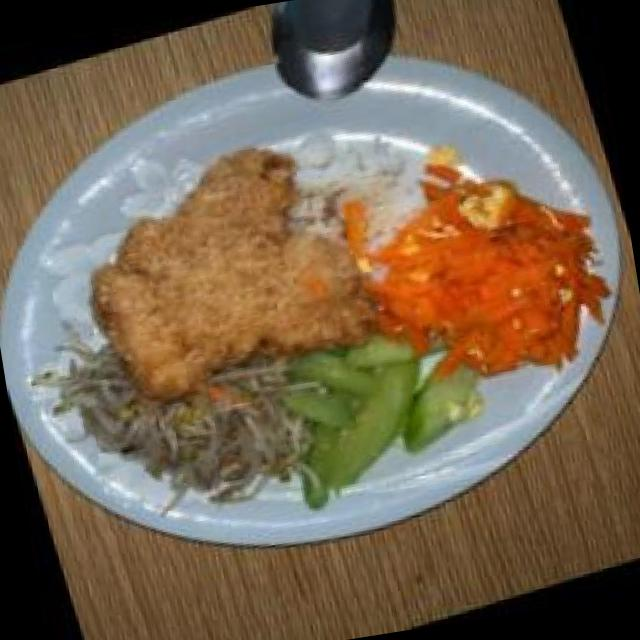carrot_eggs: (328, 121, 640, 416)
fried_chicken: (54, 114, 399, 419)
mung_bean_sprouts: (50, 286, 345, 547)
rice: (264, 104, 444, 282)
